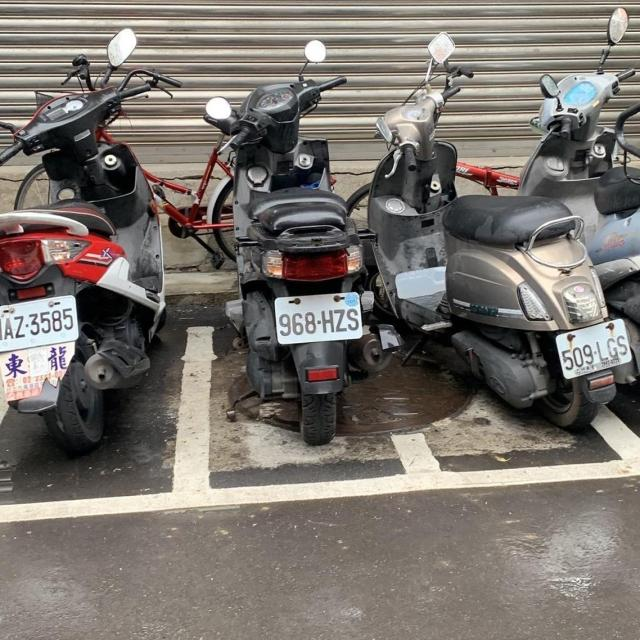W: (550, 314, 636, 382), (270, 290, 369, 346), (0, 293, 83, 355)
